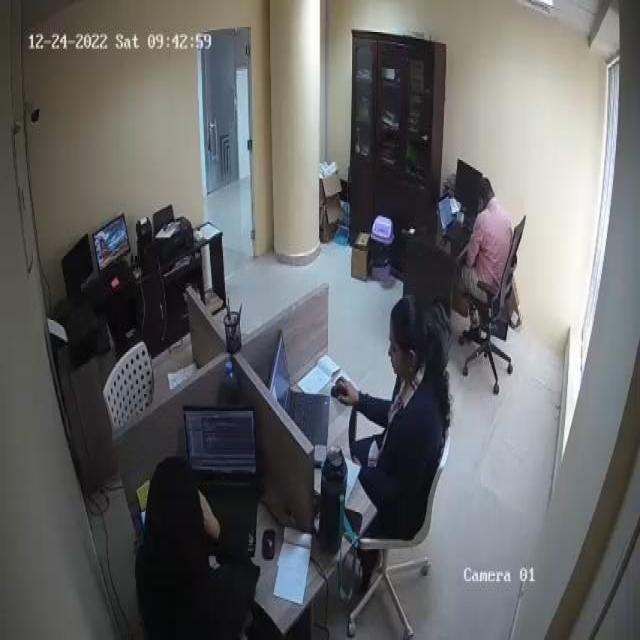bare_hand: (332, 365, 366, 416)
